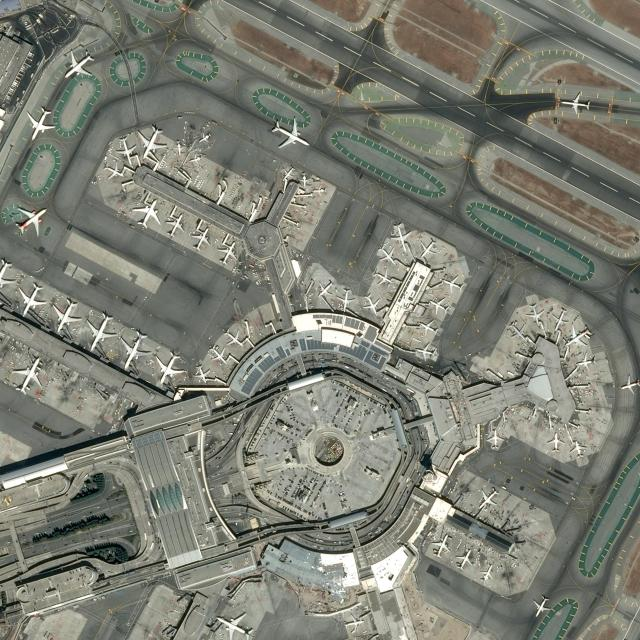1: (0, 258, 14, 292)
aircraft: (270, 117, 310, 149), (12, 356, 44, 394), (119, 330, 149, 370), (86, 310, 116, 350), (137, 124, 169, 159), (52, 296, 82, 332), (214, 612, 255, 638), (62, 48, 95, 80), (26, 106, 56, 140), (18, 280, 46, 316), (154, 351, 184, 384), (15, 204, 45, 235), (133, 199, 161, 230), (560, 90, 590, 116), (564, 322, 592, 347), (391, 223, 411, 253), (528, 594, 552, 618), (216, 240, 238, 266), (116, 137, 136, 165), (429, 530, 448, 558), (477, 488, 499, 511), (191, 226, 210, 252), (506, 320, 527, 342), (166, 214, 186, 237), (361, 292, 380, 316), (455, 545, 473, 570), (378, 244, 396, 268), (526, 300, 544, 324), (426, 296, 449, 314), (101, 161, 123, 179), (569, 436, 587, 458), (575, 353, 599, 369), (418, 236, 437, 256), (208, 345, 226, 366), (316, 278, 334, 299), (418, 319, 440, 336), (441, 274, 463, 291), (337, 288, 354, 310), (415, 342, 435, 360), (224, 328, 242, 347), (193, 363, 211, 382), (620, 375, 638, 394), (484, 430, 502, 448), (373, 268, 392, 285), (548, 432, 562, 453), (482, 564, 494, 584), (282, 166, 295, 180), (188, 154, 202, 166), (173, 142, 184, 157), (312, 185, 326, 196), (299, 172, 310, 186), (198, 132, 212, 143)
